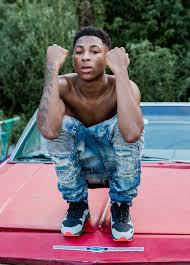quandale-dingle: (70, 27, 110, 81)
